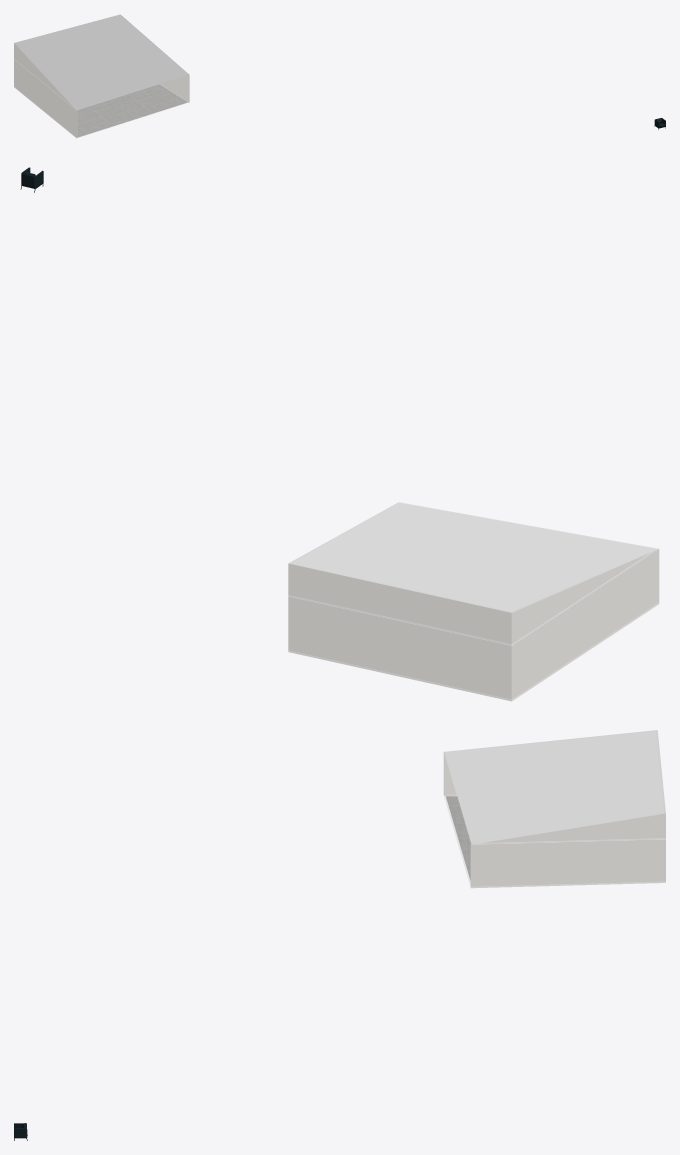
3 views of the same model, one above another, from view 1: azimuth 30°, elevation 25°; view 2: azimuth 150°, elevation 25°; view 3: azimuth 270°, elevation 25° (orthographic). The views are drawn at different scales.
Visible parts, largest first — view 1: object 2, wall (×3), object 1; view 2: wall (×2), object 2; view 3: object 2, wall (×2), object 1.
Boxes of the visible parts, x1,y1,x2,y2 form: object 2: [16, 15, 188, 110]; wall (×3): [14, 17, 189, 138]; object 1: [77, 84, 187, 137]; wall (×2): [288, 549, 659, 701]; object 2: [292, 503, 656, 611]; object 2: [445, 731, 663, 844]; wall (×2): [444, 755, 665, 888]; object 1: [446, 796, 471, 880].
Bounding box in the file's own units: 4272 × 400 × 3404.
Materials: 28 (11 with a texture image).
